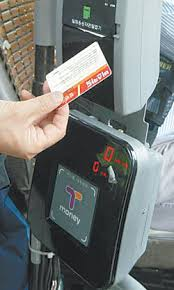terminal: (22, 104, 162, 290)
